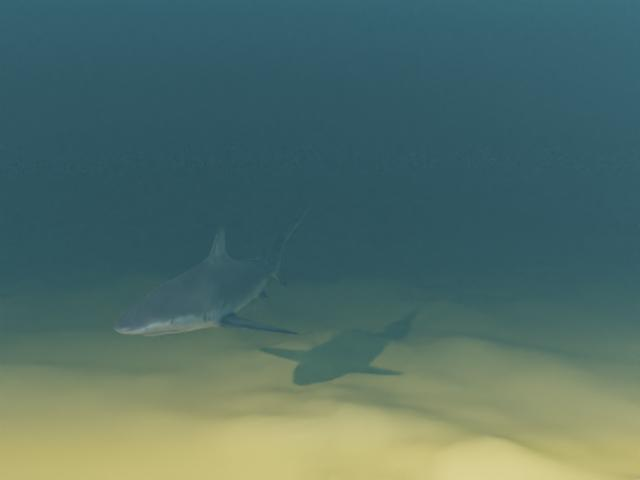Carribean Shark.001: (114, 206, 314, 336)
